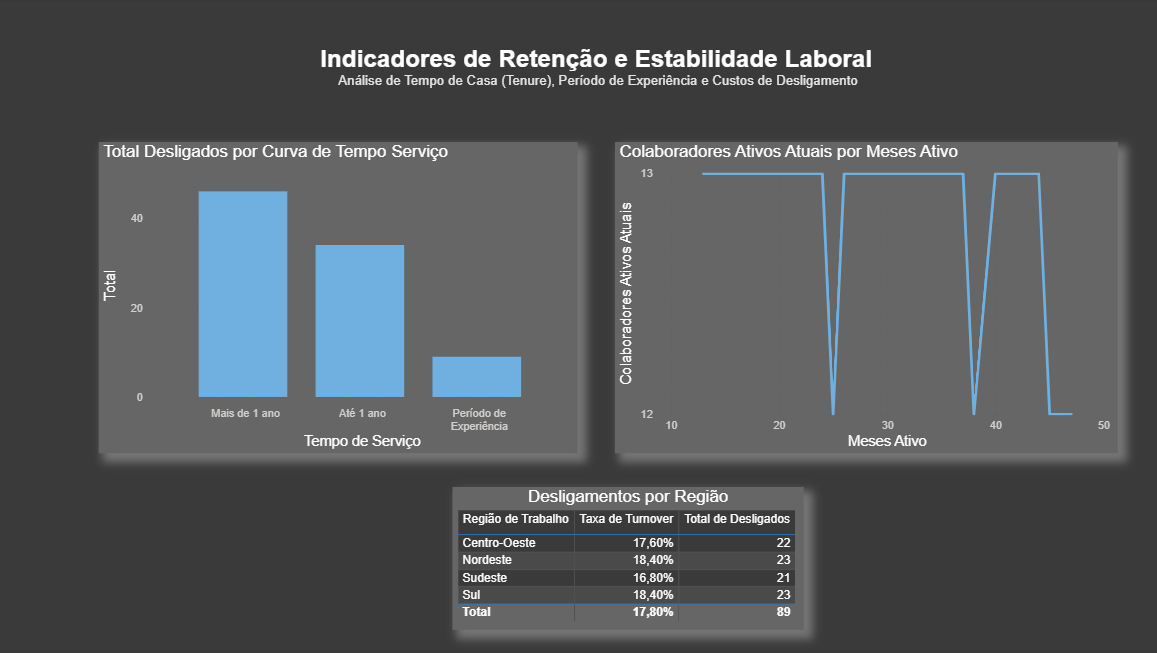

Layout of this report page (visuals, bound fields, positions):
{"tool":"powerbi","page":{"name":"Retenção","canvas":[1280,720],"ordinal":4},"visuals":[{"type":"textbox","box":[164.7,48,990.7,98.8],"z":0},{"type":"columnChart","title":"Total Desligados por Curva de Tempo Serviço","fields":{"Category":["base_dados_clt.Curva_Tempo_Serviço"],"Y":["Medidas.Total_Desligados"]},"box":[113.9,159.2,525.6,341.7],"z":1},{"type":"lineChart","fields":{"Category":["base_dados_clt.Meses_Ativo"],"Y":["Medidas.Ativos_Atuais"]},"box":[680.6,159.2,551.6,341.7],"z":2},{"type":"tableEx","title":"Desligamentos por Região","fields":{"Values":["base_dados_clt.Região_Trabalho","Medidas.Taxa_Turnover","Medidas.Total_Desligados"]},"box":[502.2,537.9,385.6,156.4],"z":3}]}

Visuals, with their boxes in screenshot pixels (x1, y1, x2, y2), scaled from the page's 1280x720 canvas onto the 1157x653 screenshot:
textbox: BBox(149, 44, 1044, 133)
"Total Desligados por Curva de Tempo Serviço" columnChart: BBox(103, 144, 578, 454)
lineChart - base_dados_clt.Meses_Ativo x Medidas.Ativos_Atuais: BBox(615, 144, 1114, 454)
"Desligamentos por Região" tableEx: BBox(454, 488, 802, 630)
